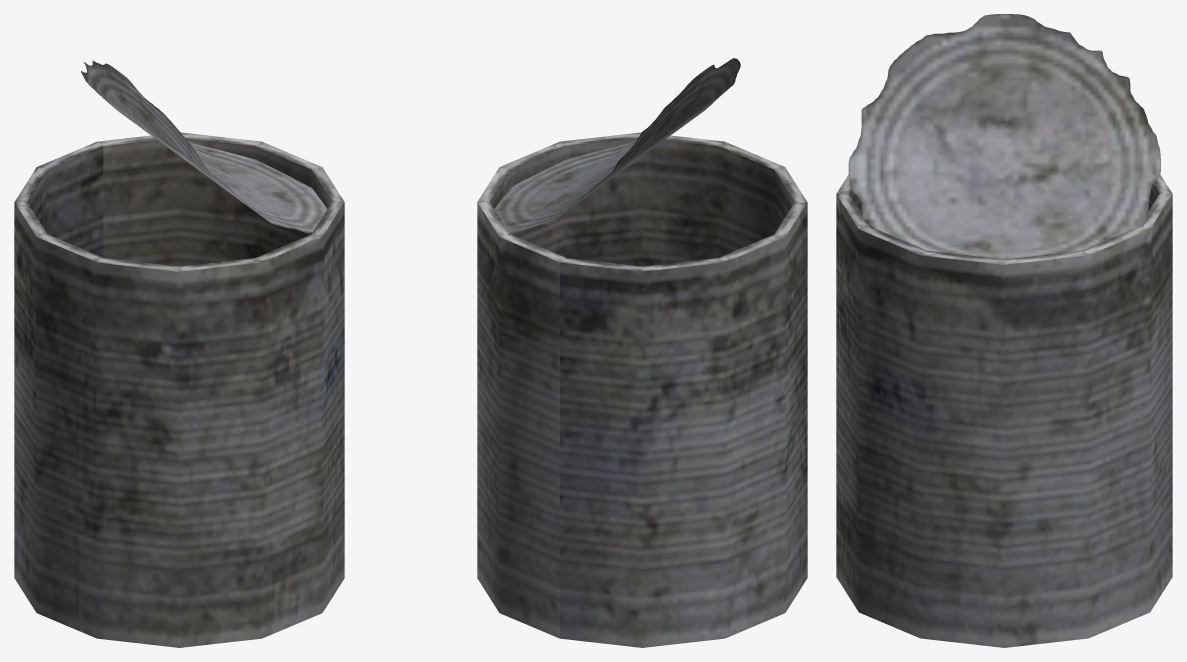
Rendered from tin_can_plain.dae.
The picture shows the model from 3 angles, left to right: view 1: azimuth 30°, elevation 25°; view 2: azimuth 150°, elevation 25°; view 3: azimuth 270°, elevation 25°; orthographic projection.
Visible parts, largest first — view 1: tin_can_plain; view 2: tin_can_plain; view 3: tin_can_plain.
Part boxes in pixels (bbox=[...]): tin_can_plain: bbox=[14, 60, 344, 647]; tin_can_plain: bbox=[477, 58, 807, 647]; tin_can_plain: bbox=[836, 14, 1172, 647].
Bounding box in the file's own units: 0.204 × 0.3562 × 0.204.
